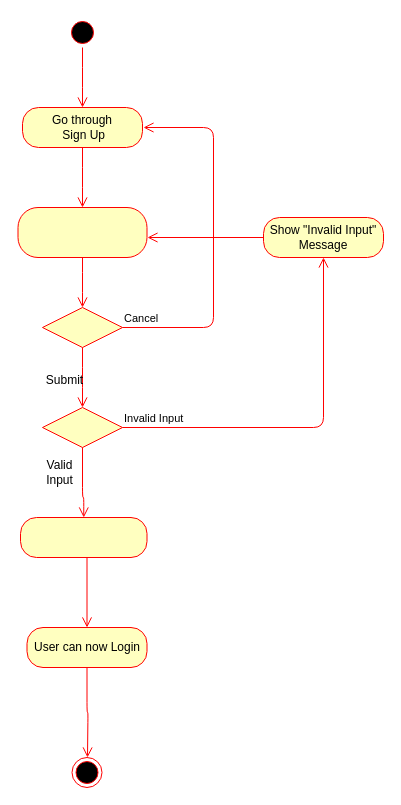
Some shapes in this 401 by 805 pixel diagram are drawn without their labels. The centre of each missing label's shape, as x and y in pixels:
Application is submitted, user added to the Database: point (83, 537)
Fill in form (Username, Password, Email, Bday etc): point (82, 232)
